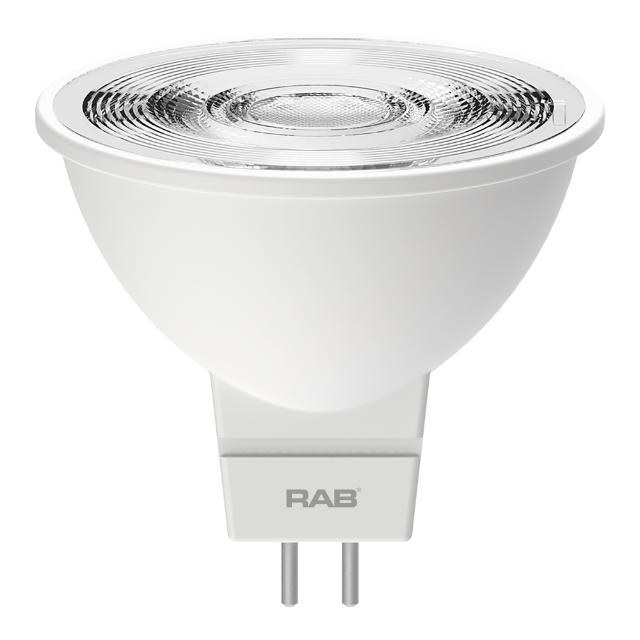light_bulb: (32, 24, 622, 614)
